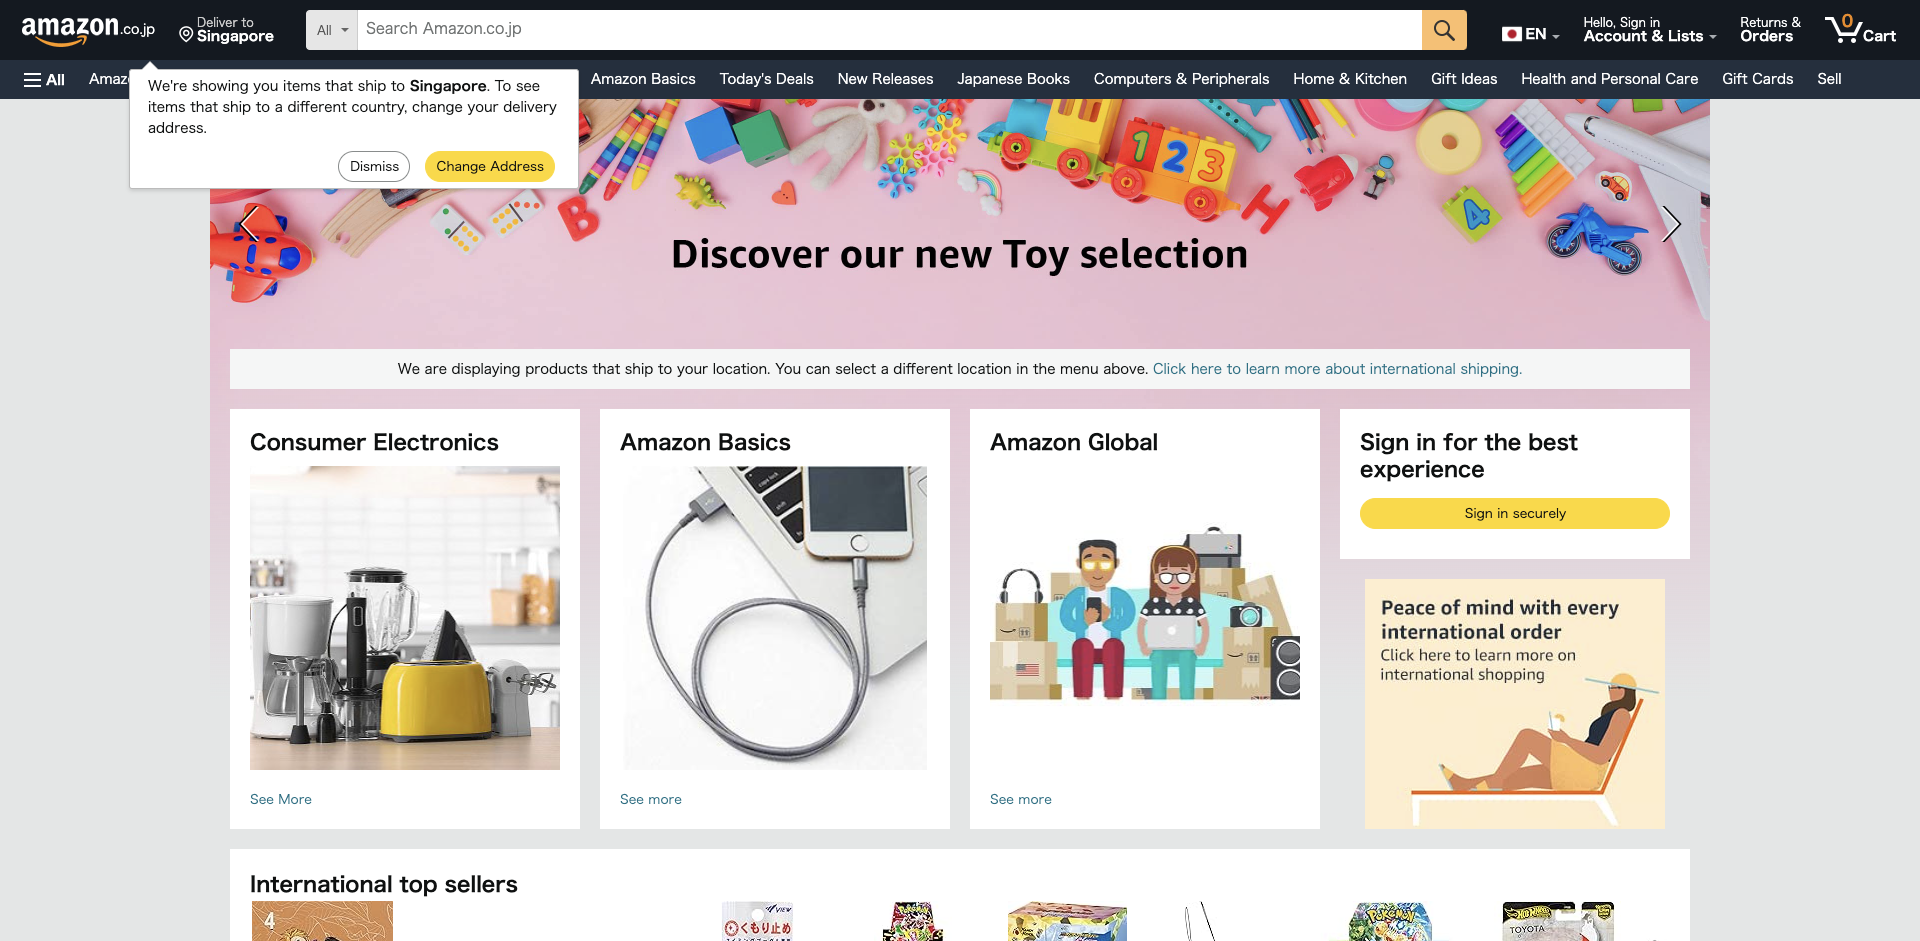button: (211, 99, 1709, 330), (1360, 497, 1670, 528), (1360, 499, 1669, 528), (1360, 499, 1669, 528), (170, 5, 283, 55), (1575, 70, 1724, 103), (425, 151, 555, 183), (426, 152, 553, 181), (426, 152, 553, 181), (426, 152, 553, 181), (15, 60, 73, 99), (338, 151, 410, 183), (339, 152, 409, 181), (339, 152, 409, 181), (339, 152, 409, 181)
dropdown: (307, 10, 542, 45)
input: (358, 11, 1422, 49), (1422, 10, 1467, 50)
link: (211, 99, 1709, 698), (0, 99, 211, 698), (1709, 99, 1920, 698), (230, 467, 580, 814), (600, 467, 950, 814), (970, 467, 1320, 814), (1365, 580, 1665, 830), (211, 99, 294, 349), (1626, 99, 1709, 349), (77, 65, 350, 93), (1575, 5, 1725, 55), (16, 5, 165, 55), (7, 10, 169, 47), (1510, 65, 1711, 93), (1082, 65, 1282, 93), (1153, 361, 1522, 376), (1816, 5, 1905, 55), (77, 104, 225, 132), (1489, 5, 1569, 55), (1731, 5, 1810, 55), (945, 65, 1082, 93), (1282, 65, 1419, 93), (579, 65, 708, 93), (350, 65, 473, 93), (825, 65, 945, 93), (708, 65, 825, 93), (473, 65, 579, 93), (1711, 65, 1805, 93), (1419, 65, 1510, 93), (1805, 65, 1854, 93), (1664, 116, 1724, 127)
